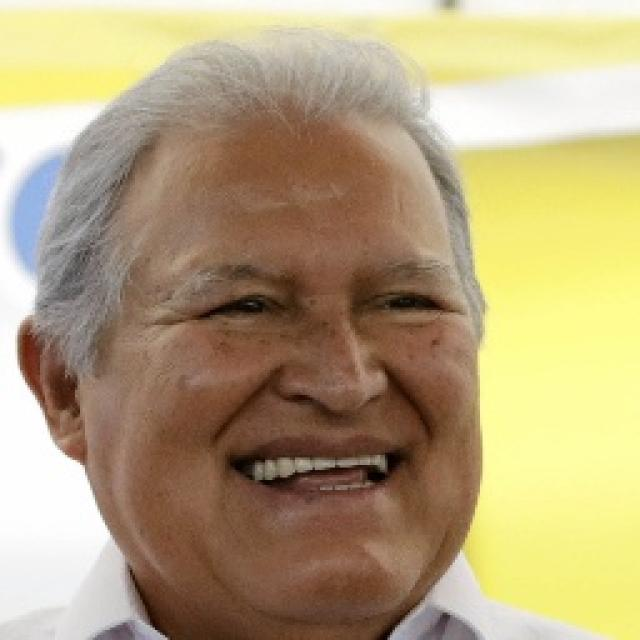earlobe: (52, 412, 89, 461)
eye: (191, 294, 277, 318), (372, 290, 447, 314)
nose: (274, 386, 404, 457)
wholeear: (15, 314, 90, 460)
